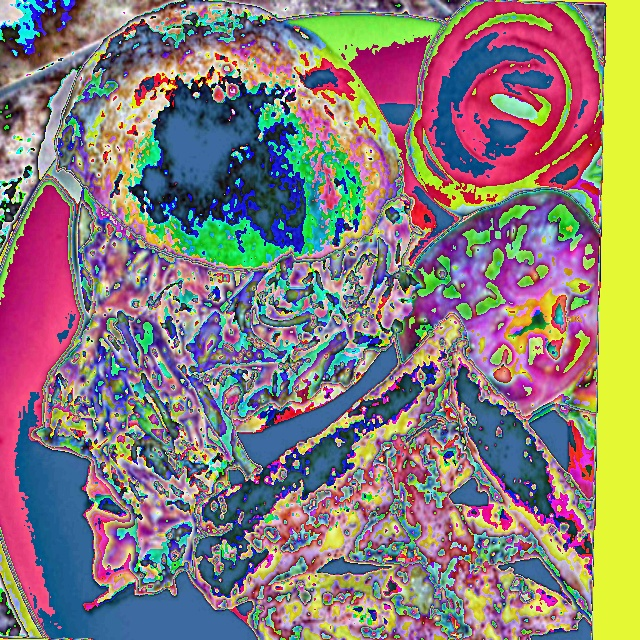background: (30, 0, 603, 640)
